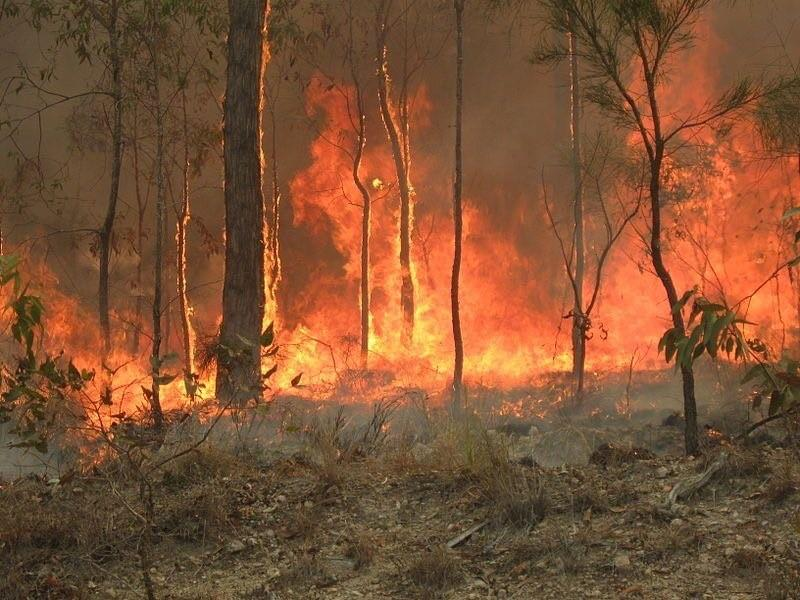fire: (248, 212, 509, 436), (632, 42, 800, 368), (4, 272, 235, 444), (498, 281, 758, 388)
